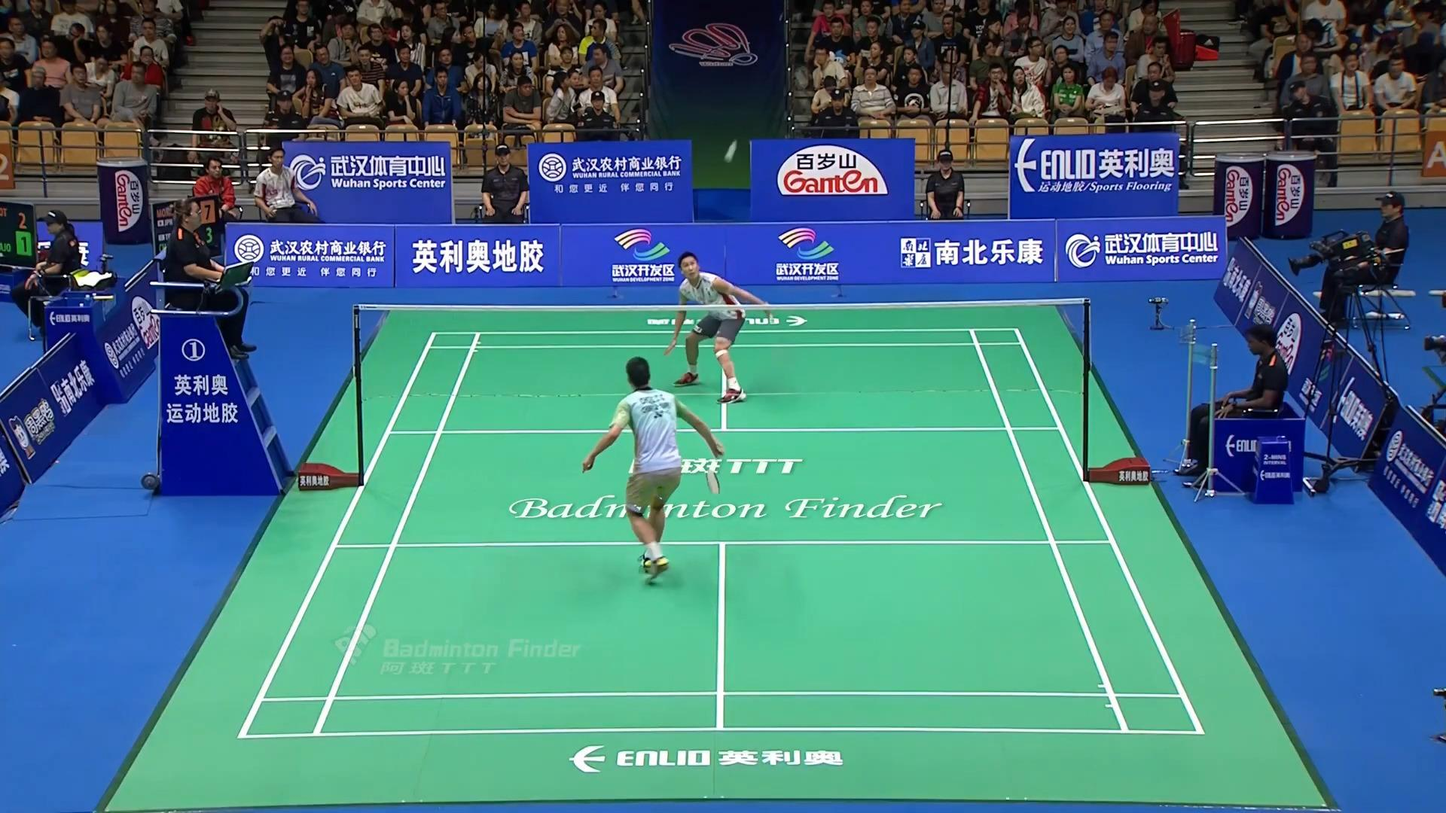shuttlecock: (725, 139, 738, 164)
